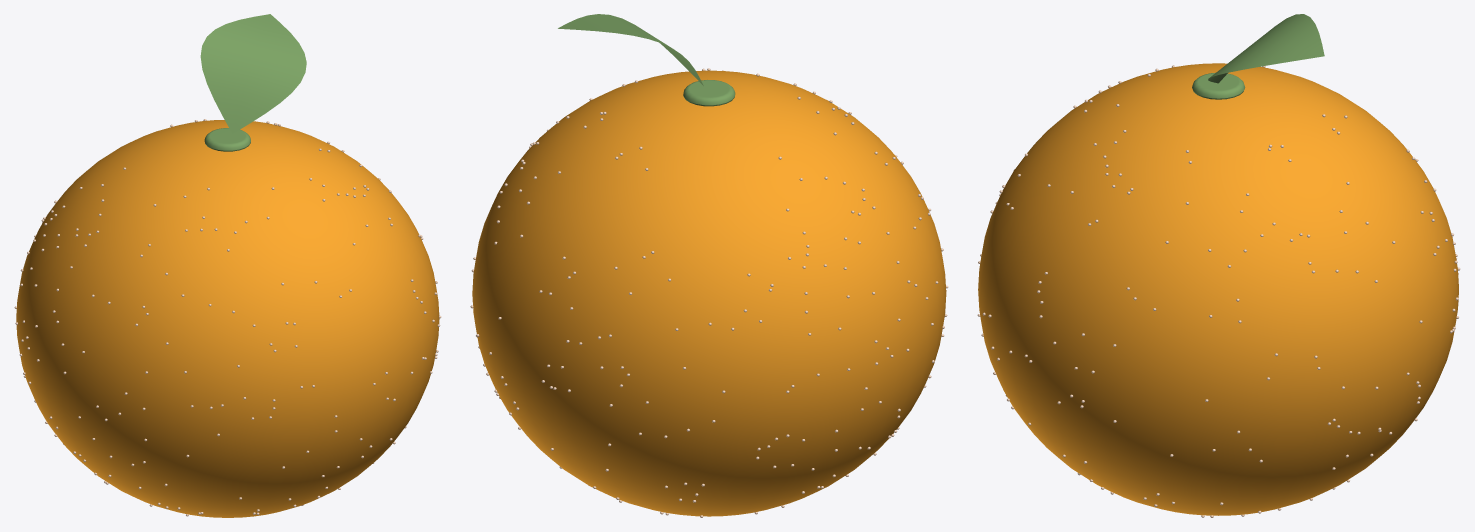
File: orange.glb
3 views of the same model, side by side, from view 1: azimuth 30°, elevation 25°; view 2: azimuth 150°, elevation 25°; view 3: azimuth 270°, elevation 25° (orthographic). The views are drawn at different scales.
Visible parts, largest first — view 1: mandarin, stem scar, peel pore; view 2: mandarin, stem scar, peel pore; view 3: mandarin, stem scar, peel pore.
Part boxes in pixels (left/top/right/bottom): mandarin: left=16, top=120, right=439, bottom=517; stem scar: left=200, top=14, right=306, bottom=151; peel pore: left=14, top=119, right=441, bottom=516; mandarin: left=472, top=70, right=946, bottom=516; stem scar: left=558, top=14, right=735, bottom=106; peel pore: left=470, top=68, right=948, bottom=517; mandarin: left=978, top=63, right=1458, bottom=515; stem scar: left=1192, top=14, right=1324, bottom=99; peel pore: left=977, top=65, right=1460, bottom=517.
Bounding box in the file's own units: 0.4732 × 0.5288 × 0.4719.
